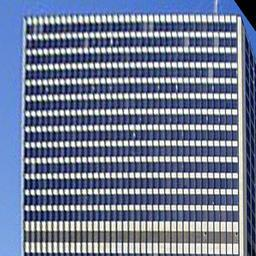building: (20, 2, 244, 256)
